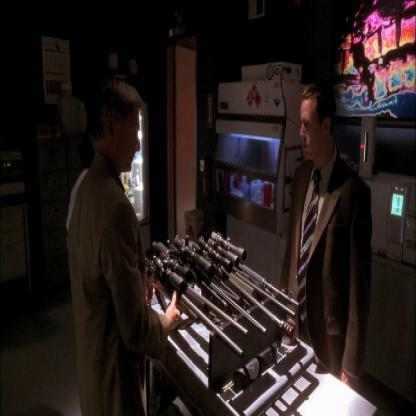Gun: (135, 225, 302, 352)
